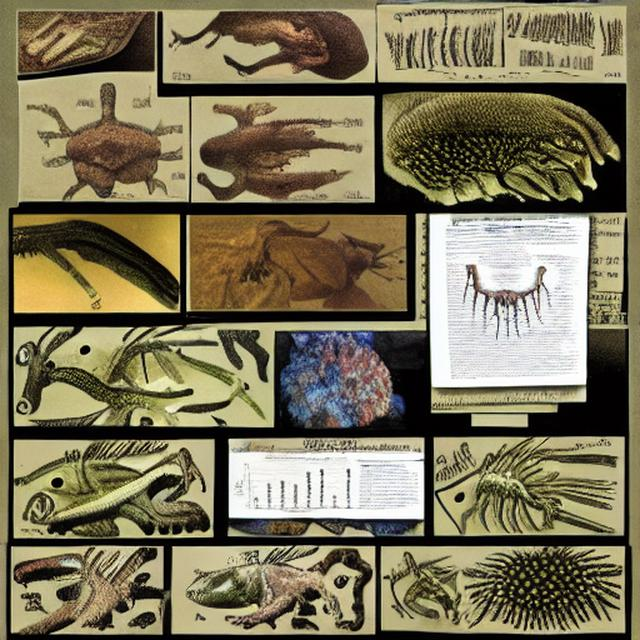Graph: (230, 456, 356, 516)
